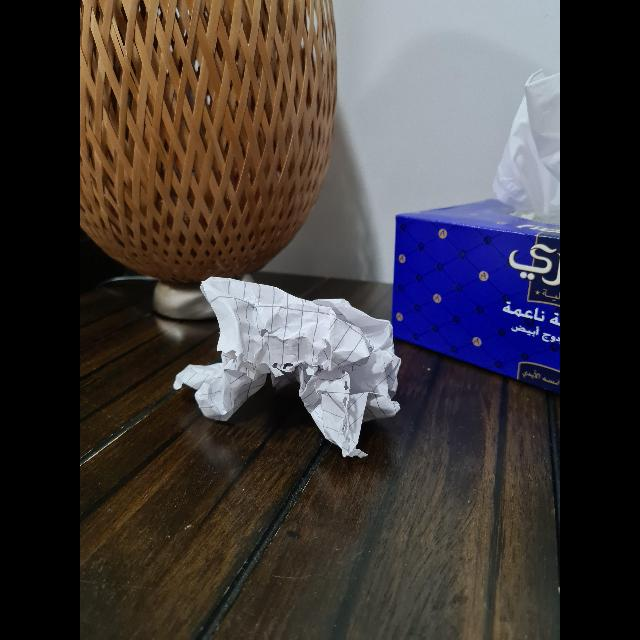scrap_paper: (187, 277, 403, 453)
